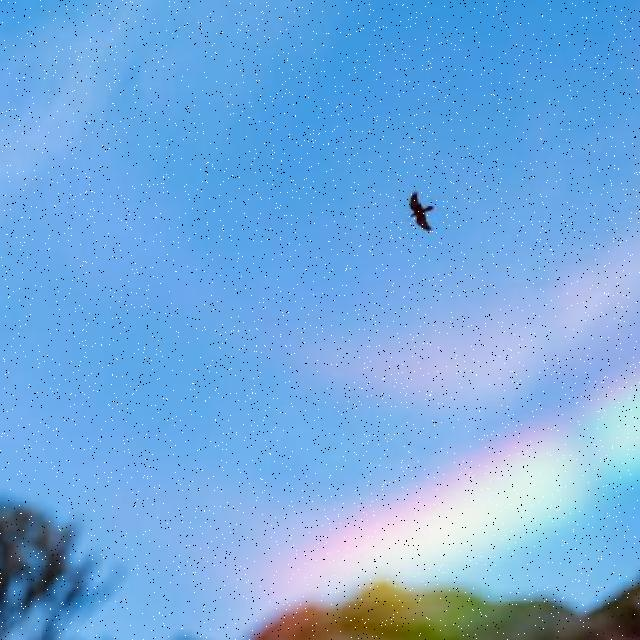bird: (405, 190, 433, 233)
